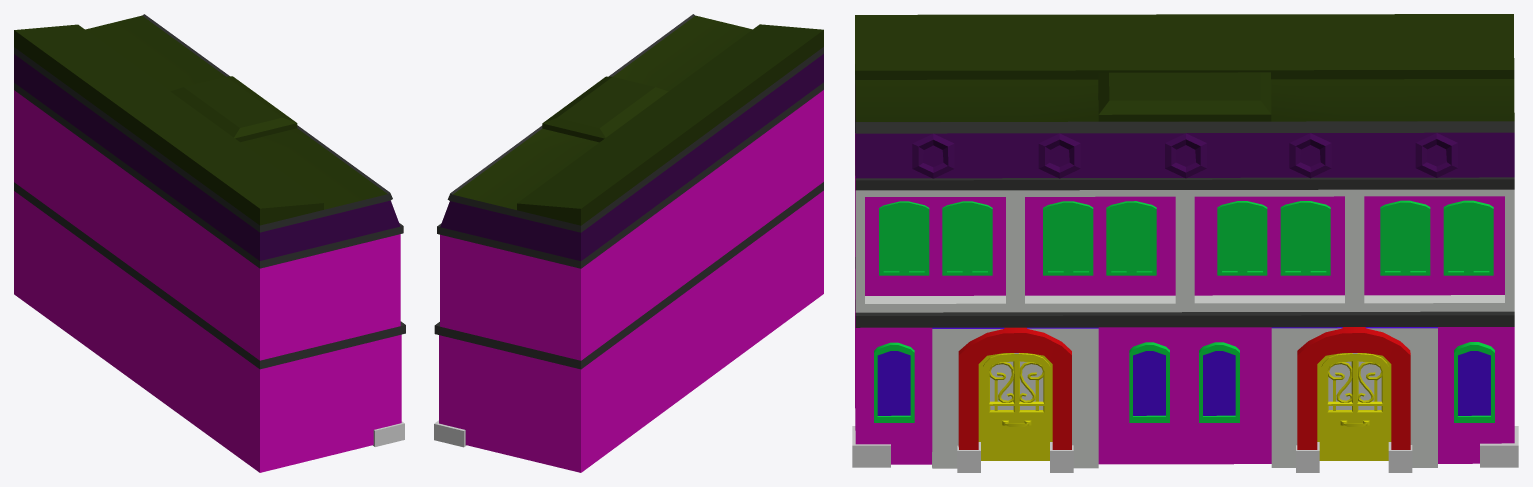
The model's file is Bat_Joliette_2.2.fbx.
3 renders of one model, left to right at view 1: azimuth 30°, elevation 25°; view 2: azimuth 150°, elevation 25°; view 3: azimuth 270°, elevation 25°, orthographic. The views are drawn at different scales.
Parts seen in each view (by area): view 1: Bat_Joliette_2.2; view 2: Bat_Joliette_2.2; view 3: Bat_Joliette_2.2.
Part boxes in pixels (x1=…): Bat_Joliette_2.2: x1=14, y1=14, x2=405, y2=472; Bat_Joliette_2.2: x1=434, y1=14, x2=823, y2=472; Bat_Joliette_2.2: x1=852, y1=14, x2=1518, y2=472.
Bounding box in the file's own units: 770 × 1242 × 2096.
